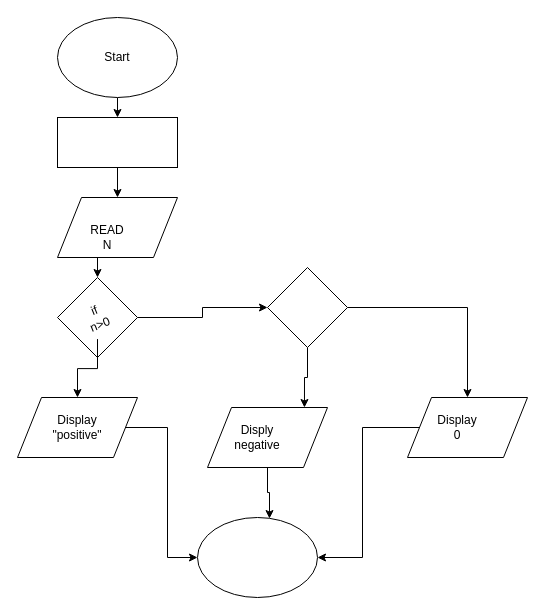
Image size: 545x615. Some labels were removed from this diagram. The centre of each missing label's shape, as x and y in pixels:
Declare n: (x=117, y=142)
else if n<0: (x=307, y=307)
stop: (x=257, y=557)
